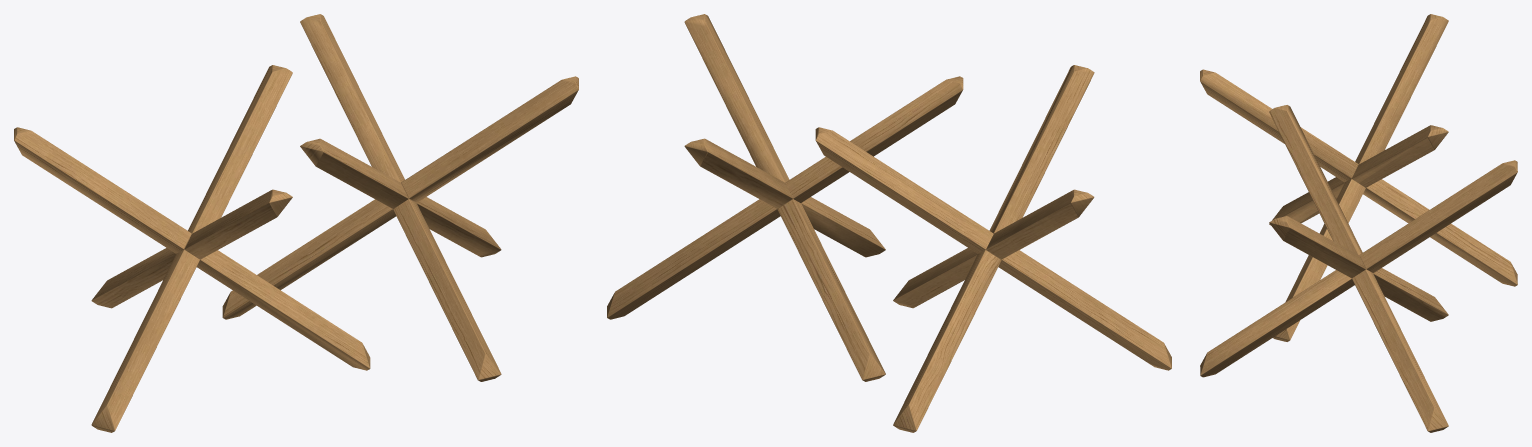
The picture shows the model from 3 angles, left to right: view 1: azimuth 30°, elevation 25°; view 2: azimuth 150°, elevation 25°; view 3: azimuth 270°, elevation 25°; orthographic projection. The views are drawn at different scales.
Visible parts, largest first — view 1: Object_155; view 2: Object_155; view 3: Object_155.
Boxes of the visible parts, x1,y1,x2,y2 form: Object_155: [14, 14, 578, 432]; Object_155: [607, 14, 1171, 432]; Object_155: [1200, 14, 1517, 432].
Size of what is drawn, in the model's own units: 0.9256 by 0.4303 by 0.586.
1 material, 1 textured.
